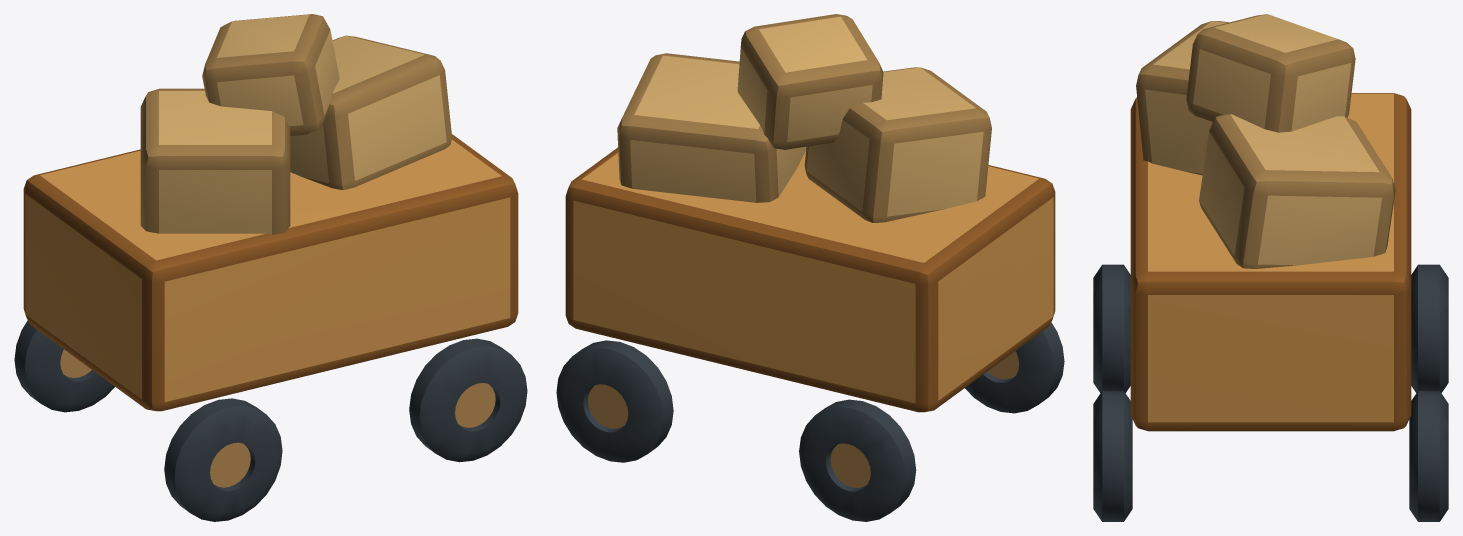
The model's file is PropOreCart.fbx.
3 renders of one model, left to right at view 1: azimuth 30°, elevation 25°; view 2: azimuth 150°, elevation 25°; view 3: azimuth 270°, elevation 25°, orthographic. The views are drawn at different scales.
Visible parts, largest first — view 1: PropOreCart_LOD0; view 2: PropOreCart_LOD0; view 3: PropOreCart_LOD0.
Part boxes in pixels (<box>): PropOreCart_LOD0: <box>14,14,527,521</box>; PropOreCart_LOD0: <box>556,14,1064,521</box>; PropOreCart_LOD0: <box>1093,14,1448,521</box>.
Size of what is drawn, in the model's own units: 0.52 by 0.5325 by 0.405.
